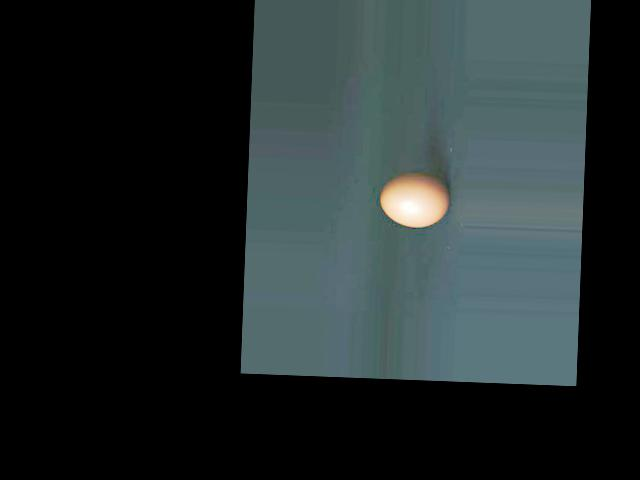egg: (379, 171, 450, 227)
